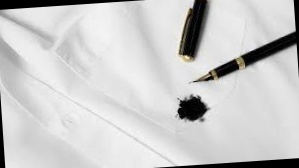ink: (175, 94, 208, 120)
